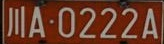A: (29, 7, 45, 37)
